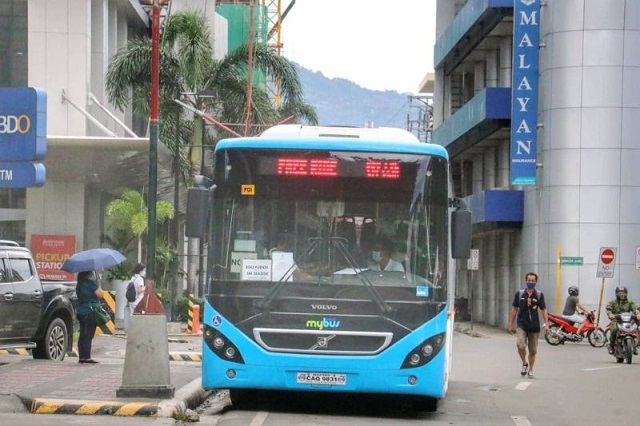bike: (547, 308, 608, 349), (607, 314, 640, 363)
bus: (212, 123, 457, 405)
car: (1, 239, 74, 361)
person: (509, 272, 547, 377), (76, 269, 101, 363), (608, 286, 640, 335), (565, 284, 588, 336)
pole: (125, 3, 173, 400)
